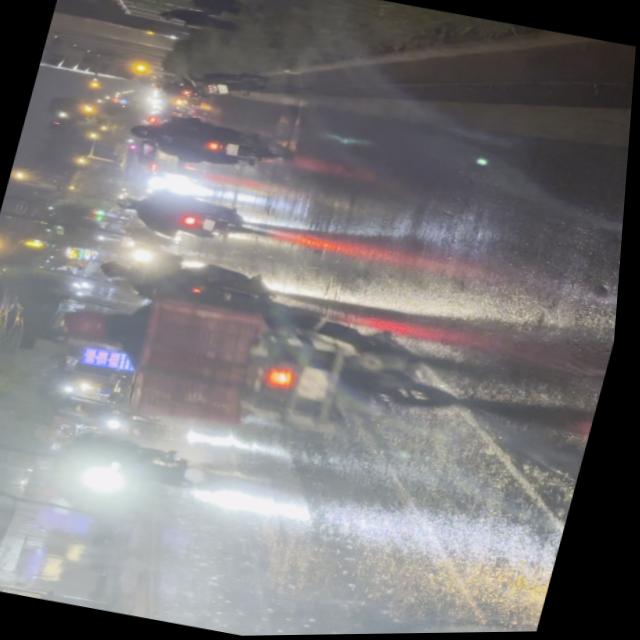helmet: (61, 302, 131, 348)
licenseplate: (38, 249, 480, 476)
